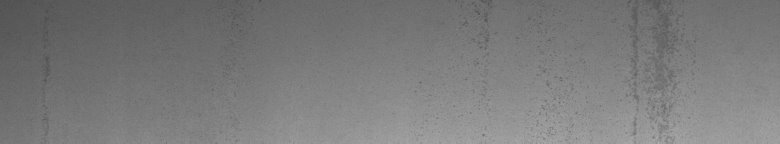ib: (472, 4, 568, 116)
